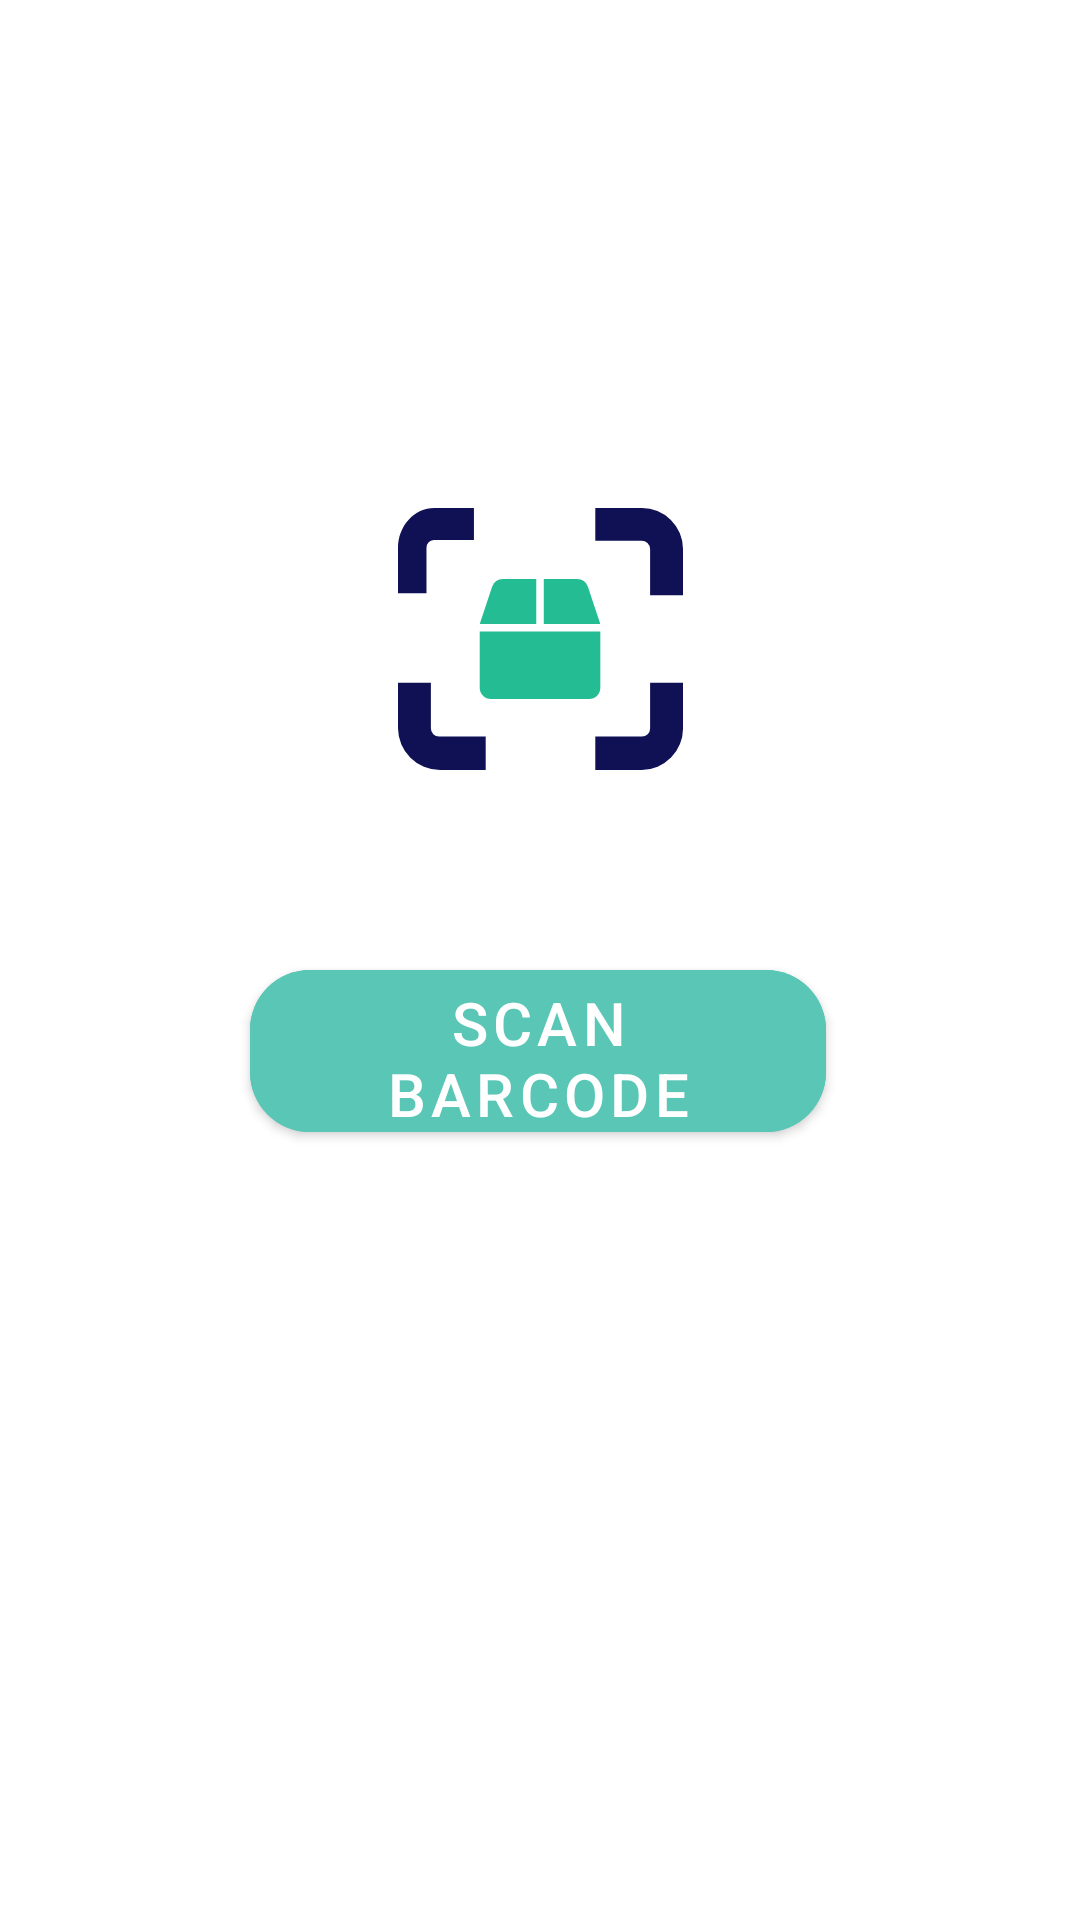

Icons on this 1080×1920 Android screen, each with the point to tap as (x,y):
scanner: (540,639)
